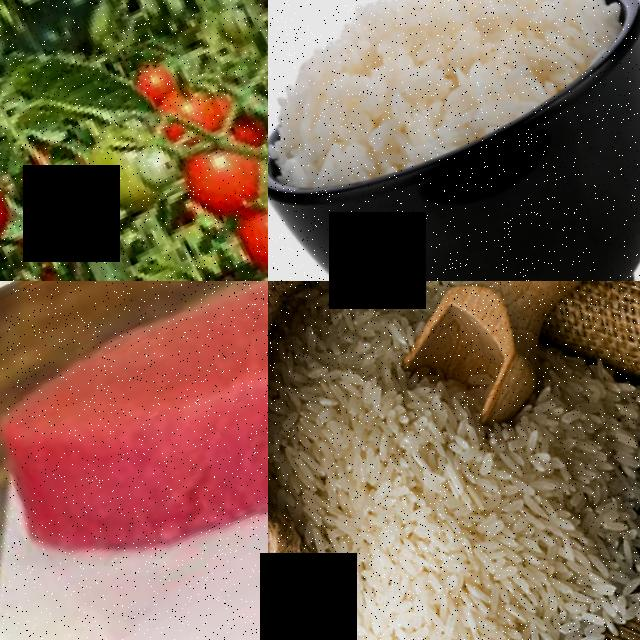tomato: (167, 126, 268, 227), (223, 177, 268, 281), (0, 166, 19, 257)
tuna: (0, 281, 268, 620)
white rice: (268, 369, 640, 640), (268, 0, 640, 225), (268, 285, 453, 514)
